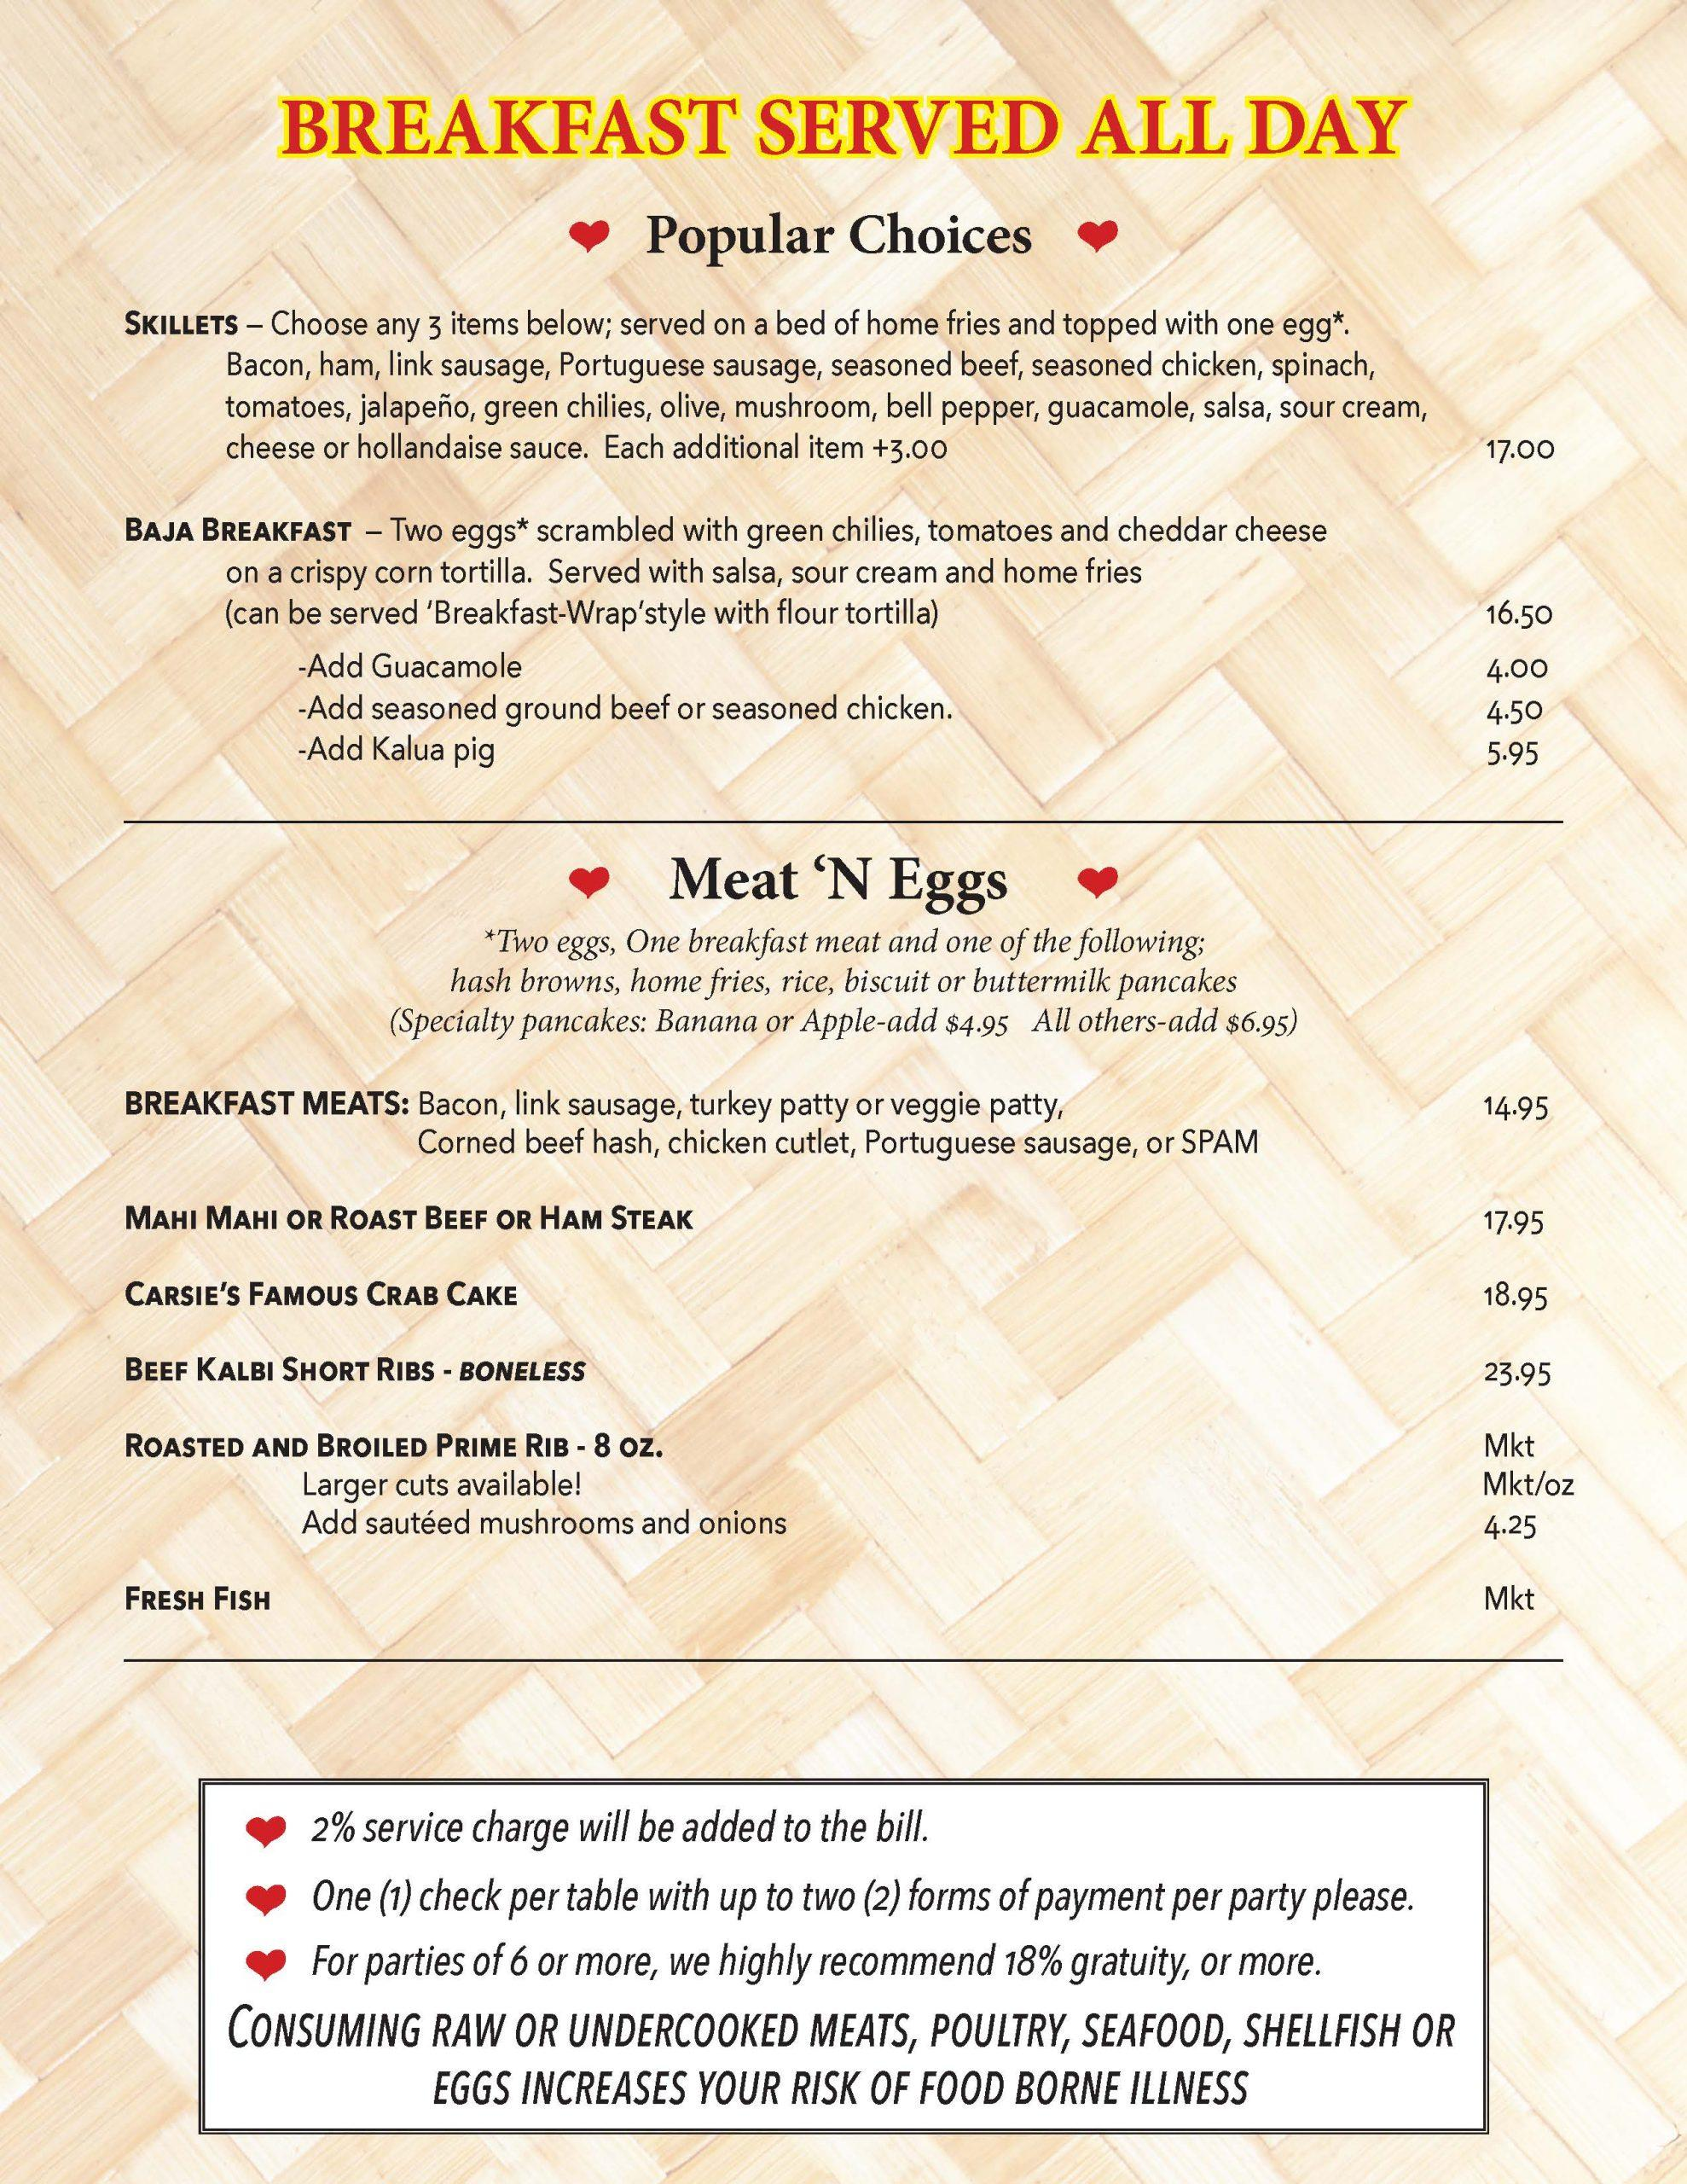Menu-Items: (97, 503, 1581, 798), (97, 291, 1565, 489), (112, 1422, 1586, 1551), (99, 1064, 1581, 1177), (323, 909, 1398, 1065), (99, 1262, 1572, 1331), (99, 1342, 1591, 1409), (106, 1189, 1572, 1253)
